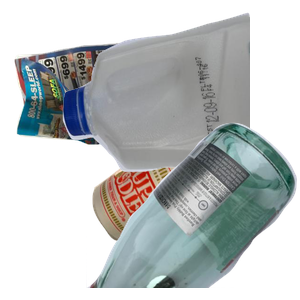glass: (86, 120, 300, 300)
paper: (12, 31, 196, 204)
plastic: (60, 10, 300, 175)
trash: (90, 129, 295, 300)
